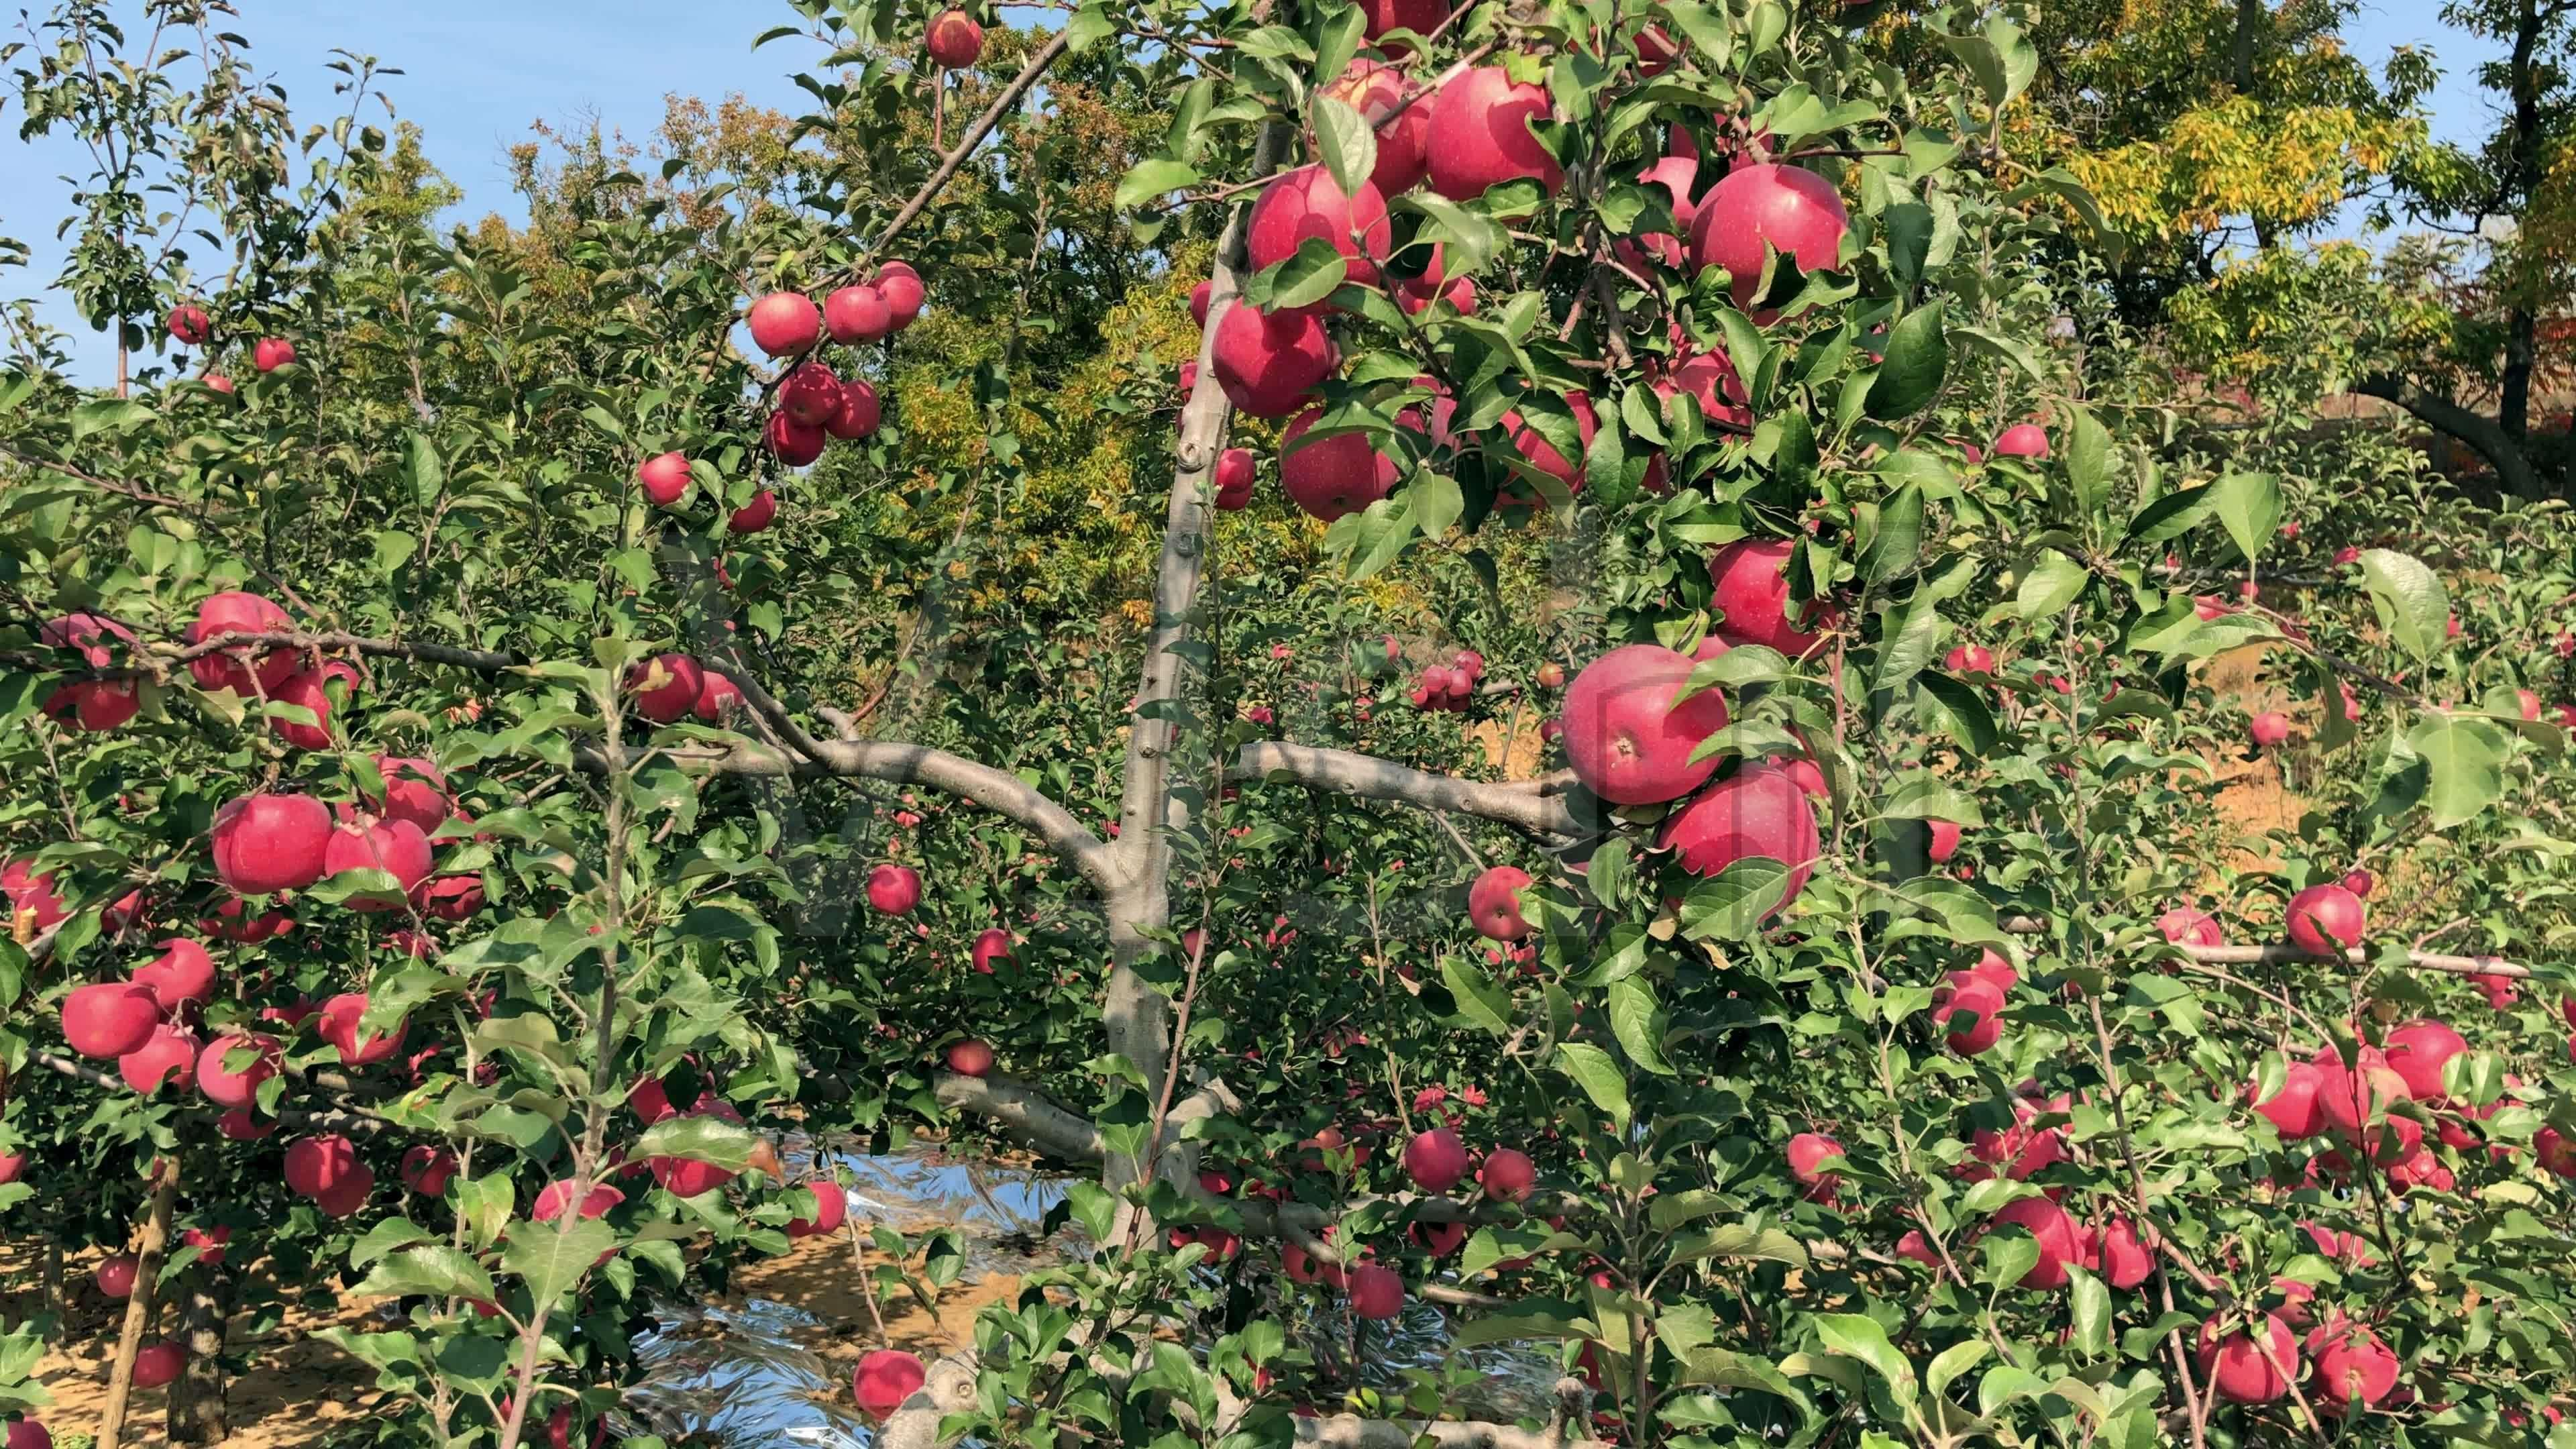apple: (1562, 642, 1730, 801), (1693, 170, 1849, 303), (1667, 773, 1819, 899), (1430, 67, 1573, 198), (1175, 801, 1309, 927), (1207, 297, 1343, 421), (1249, 166, 1387, 283), (209, 791, 331, 895), (42, 616, 150, 731), (1283, 430, 1401, 527), (326, 819, 435, 920), (195, 591, 288, 681), (626, 655, 731, 729), (60, 980, 157, 1058), (285, 1139, 375, 1221), (1470, 869, 1539, 952), (1407, 1129, 1472, 1196), (750, 292, 821, 352), (819, 287, 892, 345), (870, 264, 931, 326), (780, 361, 839, 421), (1350, 1263, 1407, 1325), (1789, 1136, 1847, 1189), (640, 453, 692, 510), (1486, 1152, 1536, 1205), (727, 492, 778, 541)
